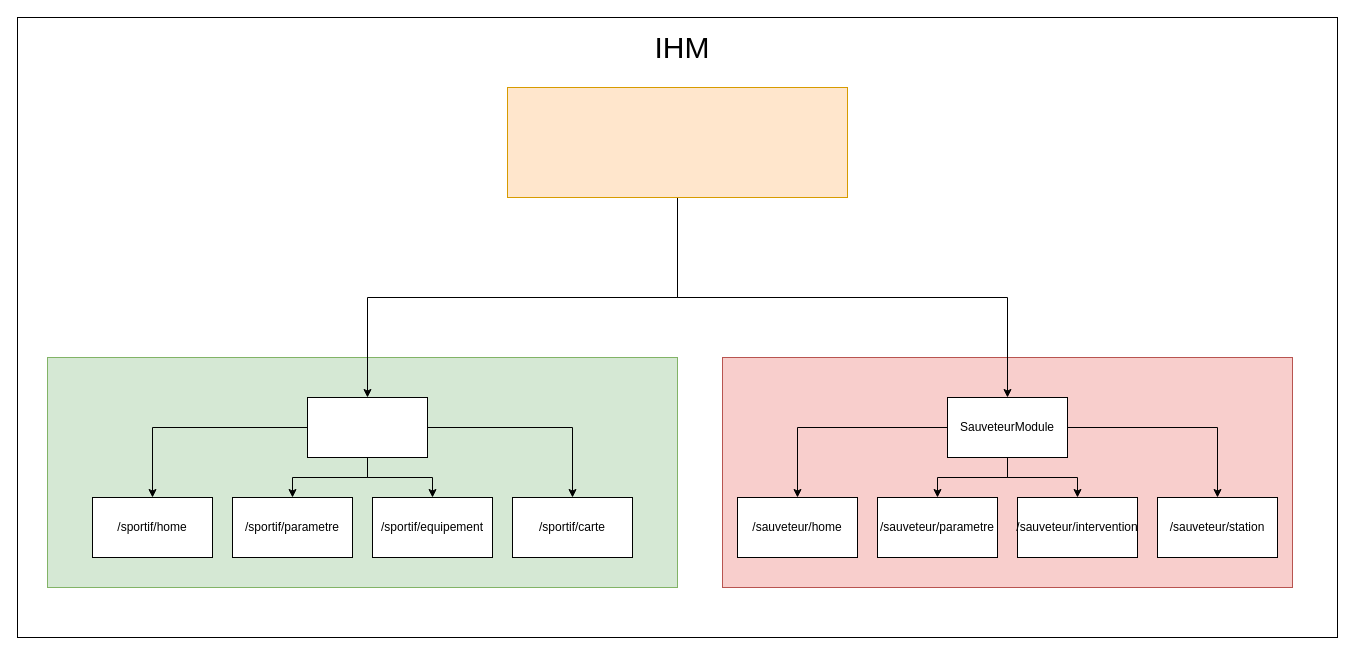
Image size: 1355x655. Some labels were removed from this diagram. The shapes that lost their labels are listed below. From the top down, each one's centre as x and y in pixels, then its label:
At (x=677, y=142): "/LOGIN".
At (x=367, y=427): "SportifModule".
